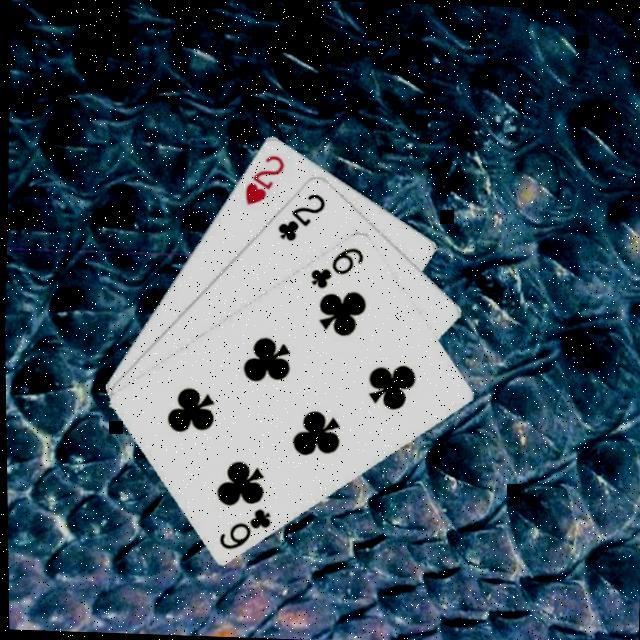2C: (274, 190, 330, 246)
2H: (242, 151, 289, 210)
6C: (306, 244, 368, 294), (214, 505, 274, 555)
